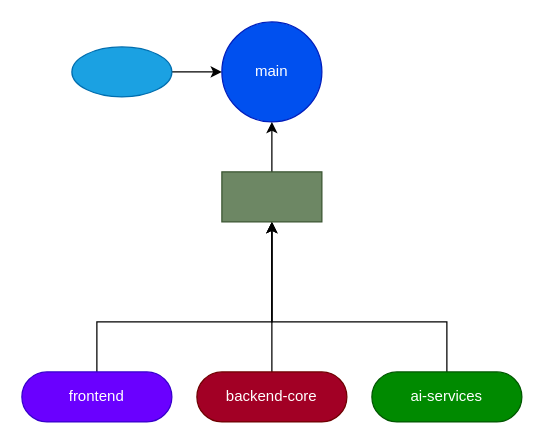
The diagram is 544 pixels wide and 444 high, and some of its shapes have lost their labels. Here are the shapes that lost their labels. From the top down, the centre of each, then its label:
At (x=121, y=71): "docs".
At (x=271, y=196): "develop".
